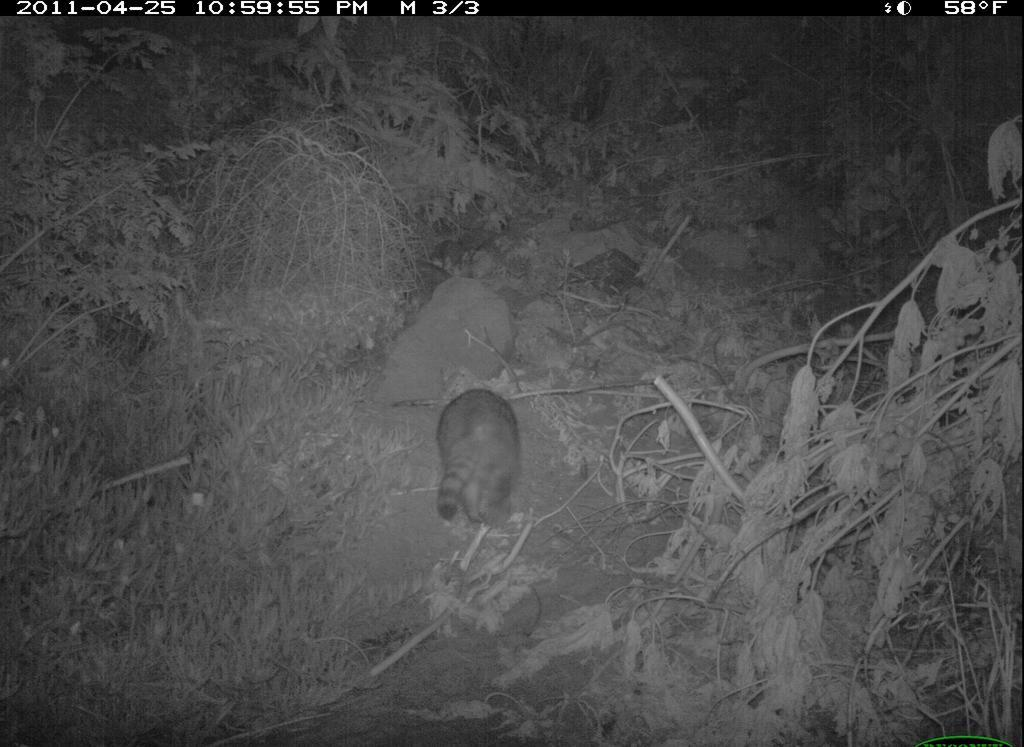raccoon: (419, 376, 543, 543)
